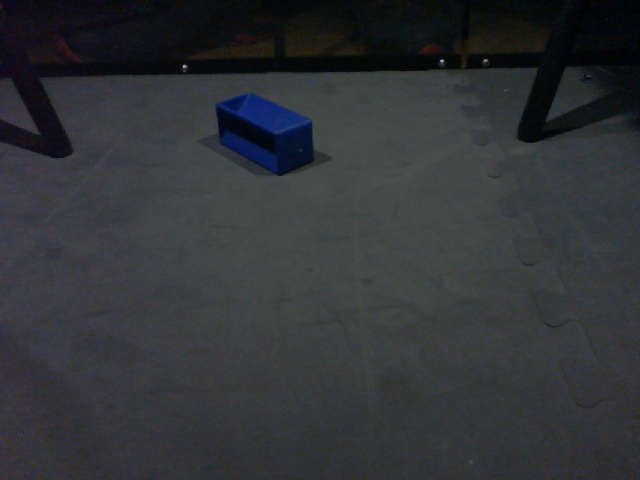BlueSample: (214, 91, 316, 177)
